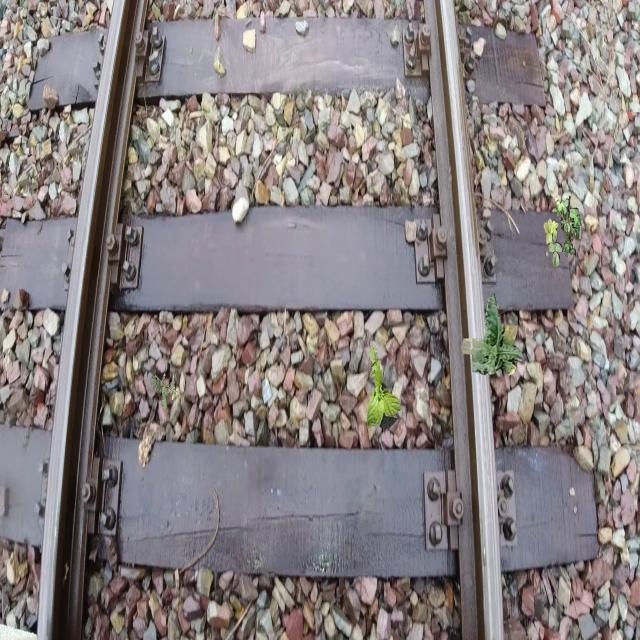Plant: (460, 293, 524, 376), (367, 346, 402, 429), (544, 196, 582, 270), (150, 369, 178, 410)
